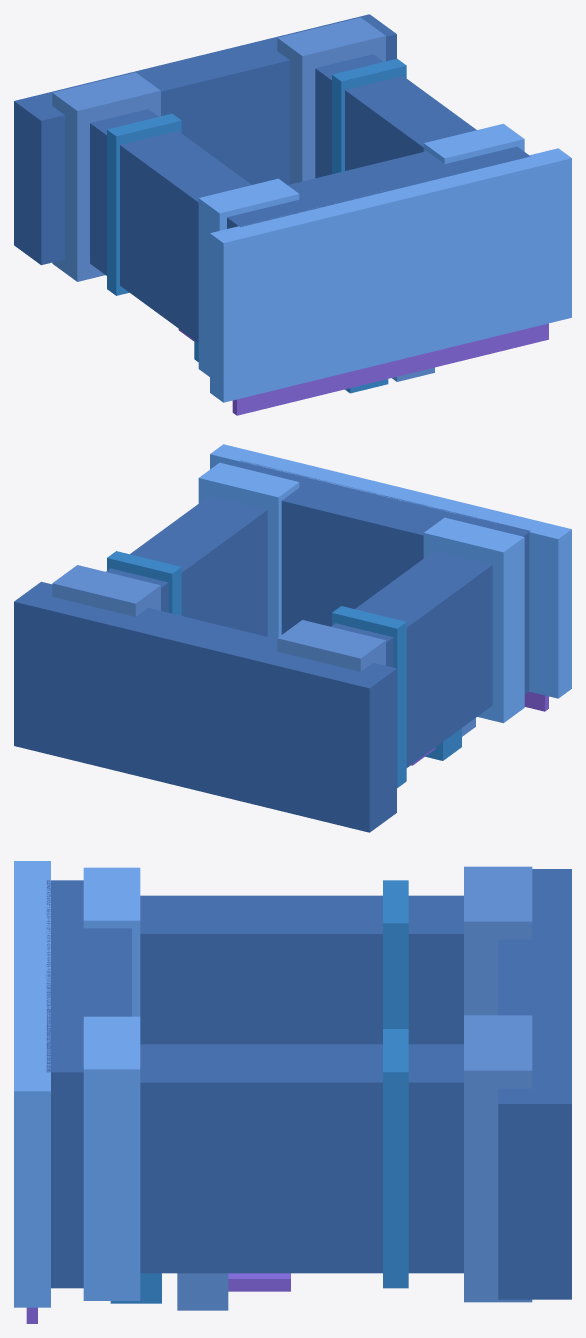
Rendered from SpalakhRuinArch_v095.glb.
The picture shows the model from 3 angles, top to bottom: view 1: azimuth 30°, elevation 25°; view 2: azimuth 150°, elevation 25°; view 3: azimuth 270°, elevation 25°; orthographic projection. The views are drawn at different scales.
Size of the model in its own units: 0.98 by 0.505 by 0.9825.
